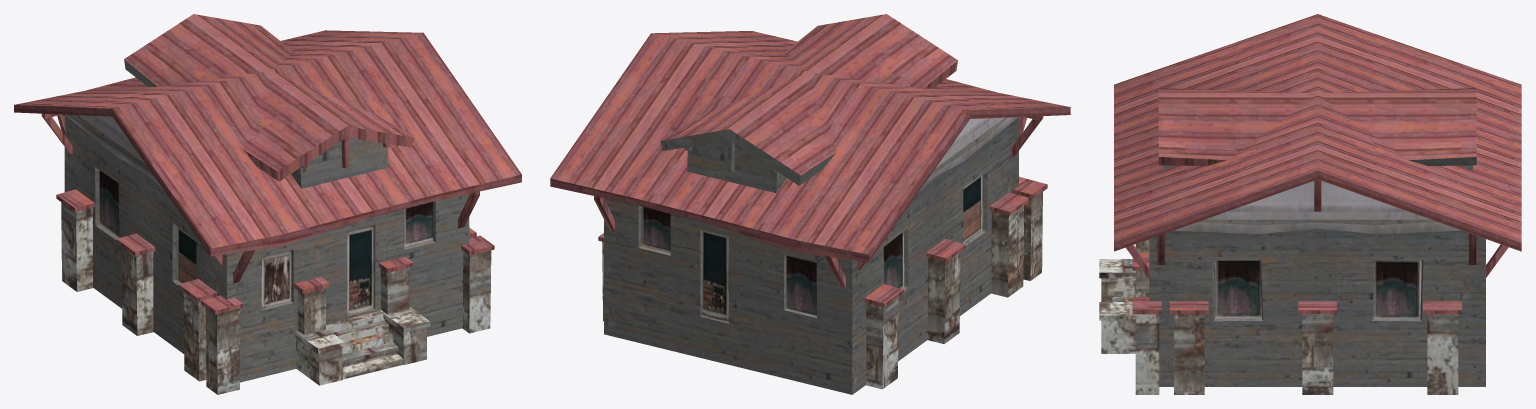
File: rural-house.lod0.glb
The picture shows the model from 3 angles, left to right: view 1: azimuth 30°, elevation 25°; view 2: azimuth 150°, elevation 25°; view 3: azimuth 270°, elevation 25°; orthographic projection. The views are drawn at different scales.
Visible parts, largest first — view 1: Rural_HouseOld_1_Material #39_0; view 2: Rural_HouseOld_1_Material #39_0; view 3: Rural_HouseOld_1_Material #39_0.
Part boxes in pixels (x1,y1,x2,y2): Rural_HouseOld_1_Material #39_0: [14, 14, 521, 394]; Rural_HouseOld_1_Material #39_0: [550, 14, 1070, 394]; Rural_HouseOld_1_Material #39_0: [1099, 14, 1521, 394].
Bounding box in the file's own units: 6.9 × 4.79 × 7.82.
1 material, 1 textured.
